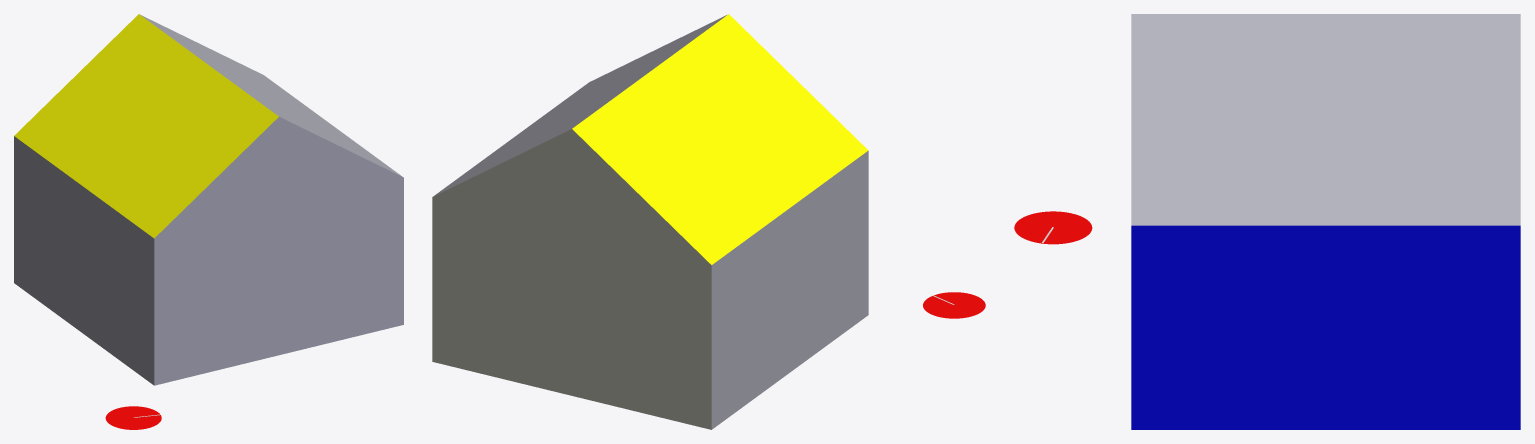
Rendered from result.glb.
3 renders of one model, left to right at view 1: azimuth 30°, elevation 25°; view 2: azimuth 150°, elevation 25°; view 3: azimuth 270°, elevation 25°, orthographic. The views are drawn at different scales.
Visible parts, largest first — view 1: a34cc606-9d23-43a0-b6be-d9bc43bd8810__undefined, ffe73dc1-4e77-4629-bac8-91e0f325ec45__undefined, 692c044f-aa32-4c2e-be6e-2b122cd1c515__undefined, 0232d30e-7847-4335-855b-00145606cef9__undefined, cd2949df-bbe8-411b-b551-f8154e18da31__Circle; view 2: e75cd413-bd98-4ba1-a07b-48b76f7df3aa__undefined, ffe73dc1-4e77-4629-bac8-91e0f325ec45__undefined, 692c044f-aa32-4c2e-be6e-2b122cd1c515__undefined, 0232d30e-7847-4335-855b-00145606cef9__undefined, cd2949df-bbe8-411b-b551-f8154e18da31__Circle; view 3: 0232d30e-7847-4335-855b-00145606cef9__undefined, 3df9fd19-4454-424f-b0c3-3119b2be931f__undefined, cd2949df-bbe8-411b-b551-f8154e18da31__Circle.
Part boxes in pixels (<box>): a34cc606-9d23-43a0-b6be-d9bc43bd8810__undefined: <box>154,117,403,385</box>; ffe73dc1-4e77-4629-bac8-91e0f325ec45__undefined: <box>14,14,278,238</box>; 692c044f-aa32-4c2e-be6e-2b122cd1c515__undefined: <box>14,136,154,385</box>; 0232d30e-7847-4335-855b-00145606cef9__undefined: <box>139,14,402,176</box>; cd2949df-bbe8-411b-b551-f8154e18da31__Circle: <box>105,406,161,429</box>; e75cd413-bd98-4ba1-a07b-48b76f7df3aa__undefined: <box>432,129,711,429</box>; ffe73dc1-4e77-4629-bac8-91e0f325ec45__undefined: <box>572,14,868,264</box>; 692c044f-aa32-4c2e-be6e-2b122cd1c515__undefined: <box>711,150,868,429</box>; 0232d30e-7847-4335-855b-00145606cef9__undefined: <box>433,15,726,196</box>; cd2949df-bbe8-411b-b551-f8154e18da31__Circle: <box>923,292,985,318</box>; 0232d30e-7847-4335-855b-00145606cef9__undefined: <box>1131,14,1520,225</box>; 3df9fd19-4454-424f-b0c3-3119b2be931f__undefined: <box>1131,225,1520,429</box>; cd2949df-bbe8-411b-b551-f8154e18da31__Circle: <box>1014,211,1092,244</box>.
Size of the model in its own units: 664 by 469 by 650.
